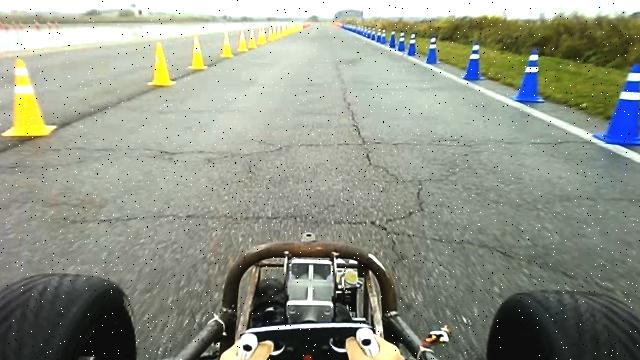blue cone: (593, 62, 640, 146), (512, 48, 546, 103), (462, 40, 486, 80), (425, 36, 441, 64), (407, 33, 418, 56), (398, 31, 407, 52)
yellow cone: (2, 57, 58, 138), (147, 41, 176, 86), (188, 35, 208, 70), (220, 30, 234, 58), (238, 30, 248, 52), (247, 29, 257, 49)
